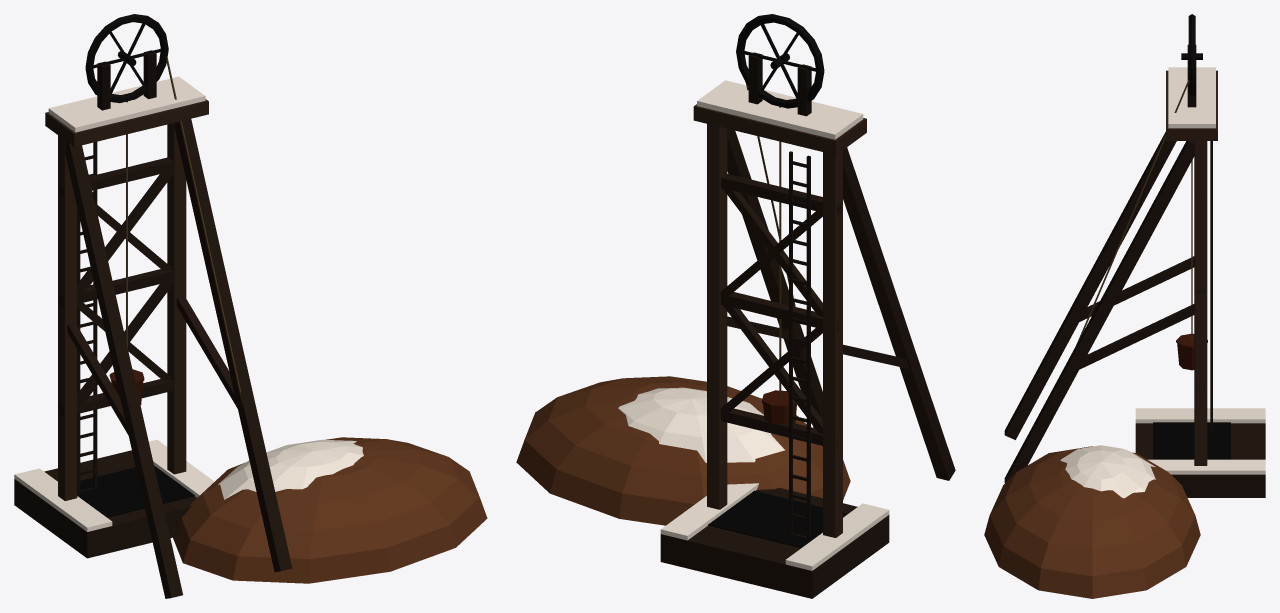
Rendered from rs_headframe.glb.
3 renders of one model, left to right at view 1: azimuth 30°, elevation 25°; view 2: azimuth 150°, elevation 25°; view 3: azimuth 270°, elevation 25°, orthographic. The views are drawn at different scales.
Parts seen in each view (by area): view 1: headframe; view 2: headframe; view 3: headframe.
Part boxes in pixels (x1=…): headframe: x1=14, y1=14, x2=487, y2=598; headframe: x1=516, y1=14, x2=955, y2=598; headframe: x1=984, y1=14, x2=1265, y2=598.
Size of the model in its own units: 8.7 by 11.52 by 6.5.
